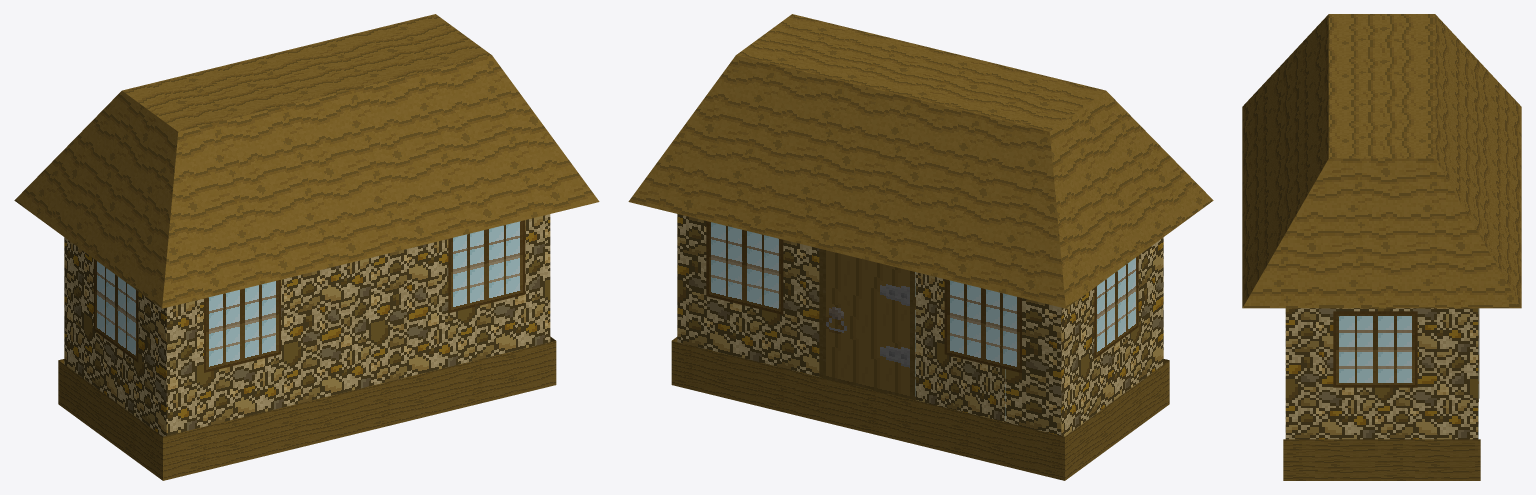
File: land_residential1.fbx
3 renders of one model, left to right at view 1: azimuth 30°, elevation 25°; view 2: azimuth 150°, elevation 25°; view 3: azimuth 270°, elevation 25°, orthographic. The views are drawn at different scales.
Visible parts, largest first — view 1: house_1; view 2: house_1; view 3: house_1.
Part boxes in pixels (x1,y1,x2,y2): house_1: (14,14,599,480); house_1: (628,14,1213,480); house_1: (1242,14,1521,480).
Bounding box in the file's own units: 495 × 348 × 290.
Materials: 4 (4 with a texture image).
